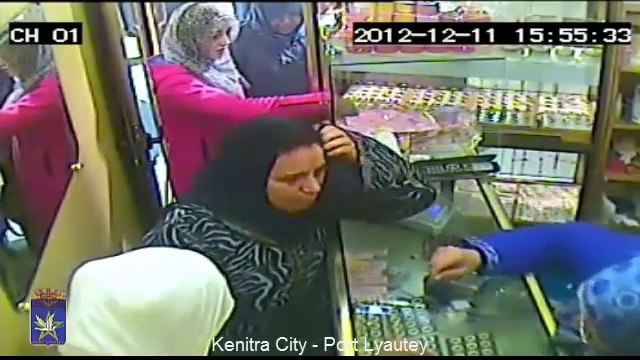face: (263, 151, 332, 215), (203, 26, 236, 57), (271, 7, 304, 32)
